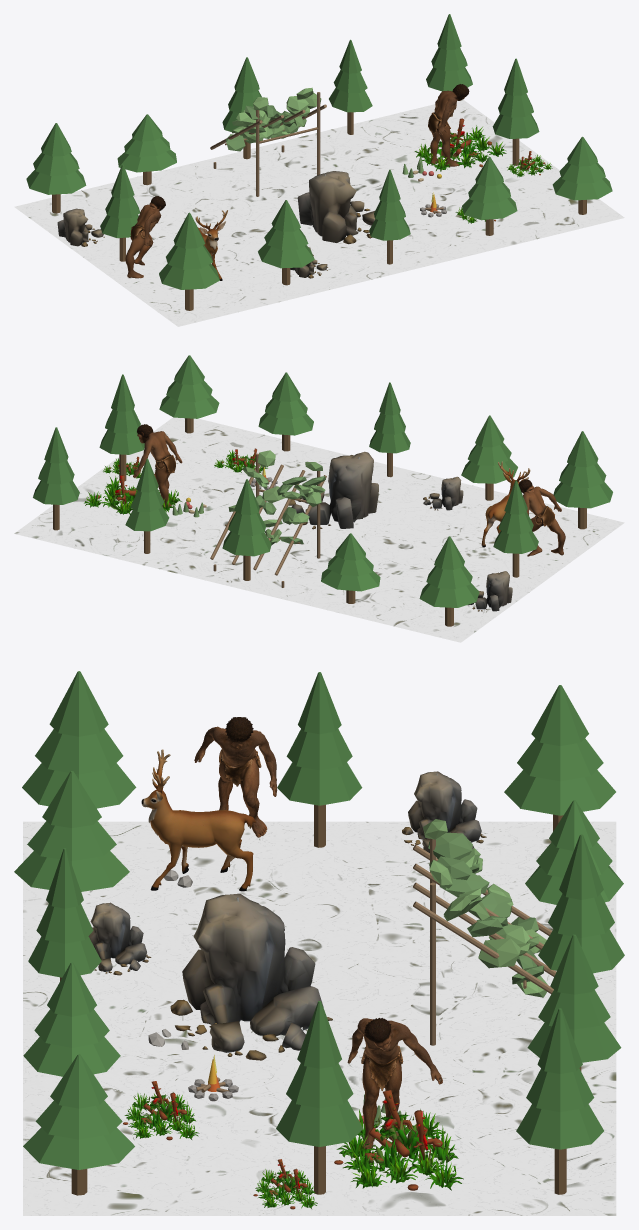
File: berburu_meramu.glb
The picture shows the model from 3 angles, top to bottom: view 1: azimuth 30°, elevation 25°; view 2: azimuth 150°, elevation 25°; view 3: azimuth 270°, elevation 25°; orthographic projection. The views are drawn at different scales.
Parts seen in each view (by area): view 1: Diorama_Floor, Shelter, Batu_Cluster, pohon_11, pohon_17, pohon_2, pohon_extra_0, pohon_5, pohon_extra_2, pohon_extra_3, pohon_8, pohon_extra_5 (+9 smaller); view 2: Diorama_Floor, Shelter, Batu_Cluster, pohon_11, pohon_17, pohon_2, pohon_extra_4, pohon_extra_0, pohon_8, pohon_5, pohon_extra_3, pohon_extra_2 (+10 smaller); view 3: Diorama_Floor, Batu_Cluster, Shelter, pohon_17, pohon_11, pohon_2, pohon_5, pohon_8, pohon_extra_0, pohon_14, Semak_Cluster, pohon_extra_4 (+11 smaller).
Boxes of the visible parts, <box> form: Diorama_Floor: <box>14,99,624,326</box>; Shelter: <box>210,87,326,196</box>; Batu_Cluster: <box>297,171,375,244</box>; pohon_11: <box>159,212,219,310</box>; pohon_17: <box>26,123,86,213</box>; pohon_2: <box>552,136,612,214</box>; pohon_extra_0: <box>258,200,314,285</box>; pohon_5: <box>492,58,539,165</box>; pohon_extra_2: <box>462,157,517,235</box>; pohon_extra_3: <box>117,114,176,185</box>; pohon_8: <box>426,14,472,116</box>; pohon_extra_5: <box>329,39,372,134</box>; Diorama_Floor: <box>14,417,624,642</box>; Shelter: <box>210,450,326,587</box>; Batu_Cluster: <box>288,451,378,529</box>; pohon_11: <box>553,431,612,529</box>; pohon_17: <box>419,536,479,626</box>; pohon_2: <box>159,355,219,433</box>; pohon_extra_4: <box>222,479,271,580</box>; pohon_extra_0: <box>461,415,517,500</box>; pohon_8: <box>33,427,79,530</box>; pohon_5: <box>99,374,144,481</box>; pohon_extra_3: <box>321,533,380,603</box>; pohon_extra_2: <box>258,372,313,451</box>; Diorama_Floor: <box>23,821,616,1215</box>; Batu_Cluster: <box>170,893,332,1060</box>; Shelter: <box>413,819,556,1045</box>; pohon_17: <box>504,685,615,831</box>; pohon_11: <box>22,671,136,808</box>; pohon_2: <box>23,1054,134,1195</box>; pohon_5: <box>276,1001,363,1194</box>; pohon_8: <box>516,1008,603,1194</box>; pohon_extra_0: <box>14,771,129,891</box>; pohon_14: <box>277,672,362,847</box>; Semak_Cluster: <box>334,1090,463,1190</box>; pohon_extra_4: <box>538,834,624,973</box>.
Bounding box in the file's own units: 6.6 × 1.54 × 4.32.
21 materials, 6 textured.
